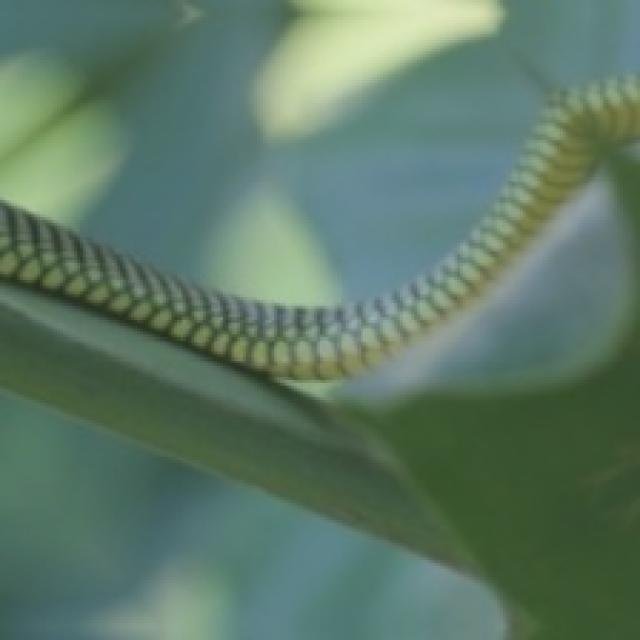paradise tree snake: (0, 74, 637, 377)
